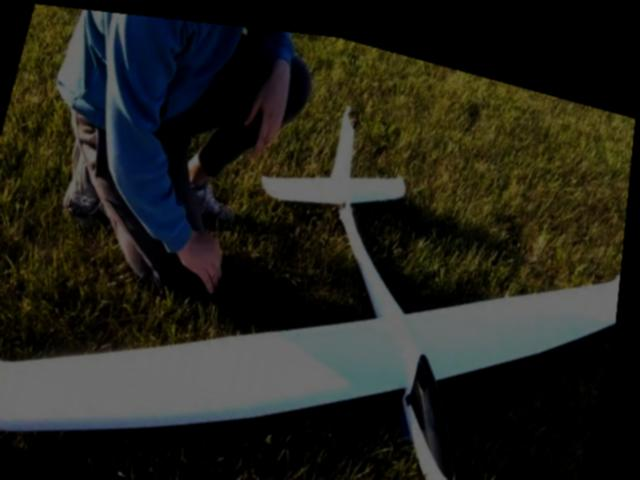iha: (0, 22, 638, 480)
